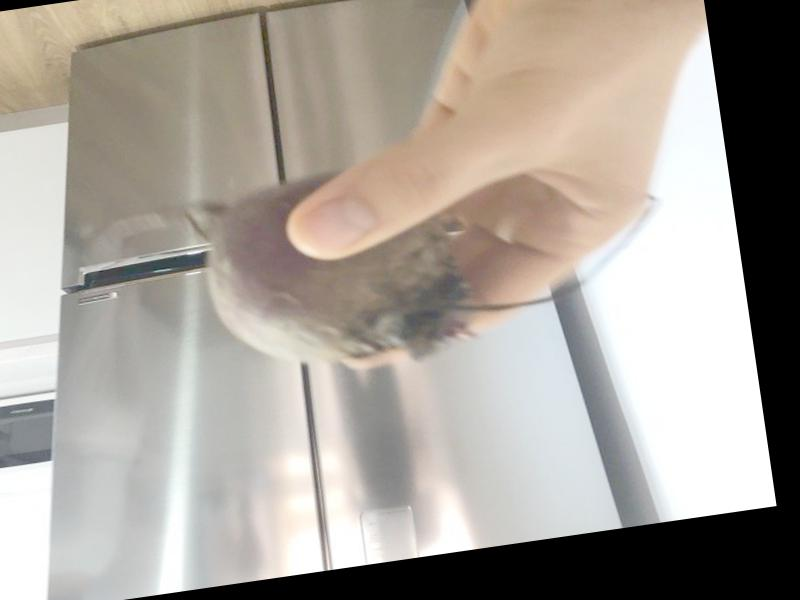Beet: (152, 129, 674, 394)
